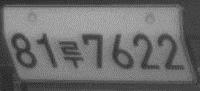1: (36, 32, 57, 68)
2: (133, 32, 162, 71), (157, 33, 185, 70)
6: (110, 33, 135, 69)
7: (81, 32, 104, 69)
8: (9, 32, 38, 69)
루: (57, 40, 85, 69)
